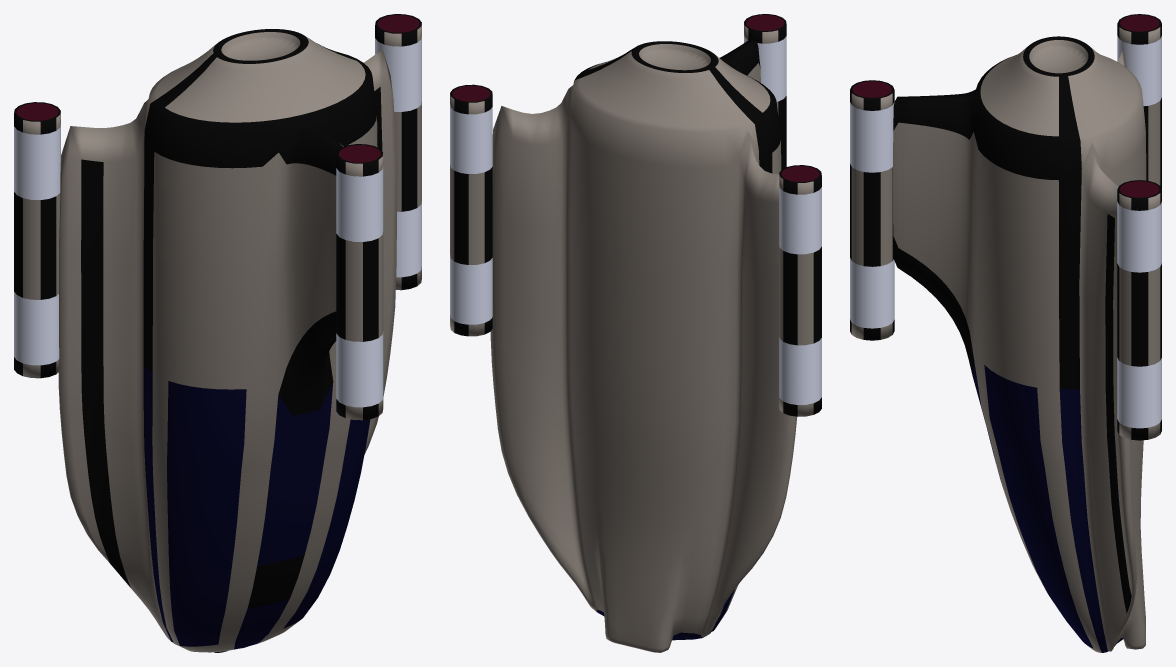
Rendered from spaceship_d1.fbx.
The picture shows the model from 3 angles, left to right: view 1: azimuth 30°, elevation 25°; view 2: azimuth 150°, elevation 25°; view 3: azimuth 270°, elevation 25°; orthographic projection. The views are drawn at different scales.
Parts seen in each view (by area): view 1: Ship, Engine_Top, Engine_Right, Engine_Left; view 2: Ship, Engine_Left, Engine_Right, Engine_Top; view 3: Ship, Engine_Left, Engine_Top, Engine_Right.
Boxes of the visible parts, x1=… form: Ship: x1=58, y1=29, x2=397, y2=652; Engine_Top: x1=336, y1=144, x2=383, y2=420; Engine_Right: x1=14, y1=102, x2=60, y2=378; Engine_Left: x1=375, y1=14, x2=421, y2=290; Ship: x1=490, y1=39, x2=797, y2=652; Engine_Left: x1=450, y1=84, x2=492, y2=336; Engine_Right: x1=779, y1=165, x2=821, y2=416; Engine_Top: x1=744, y1=14, x2=786, y2=169; Ship: x1=893, y1=36, x2=1146, y2=652; Engine_Left: x1=1117, y1=180, x2=1161, y2=440; Engine_Top: x1=850, y1=80, x2=894, y2=340; Engine_Right: x1=1117, y1=14, x2=1161, y2=188.
Bounding box in the file's own units: 7.38 × 10.85 × 5.26.
